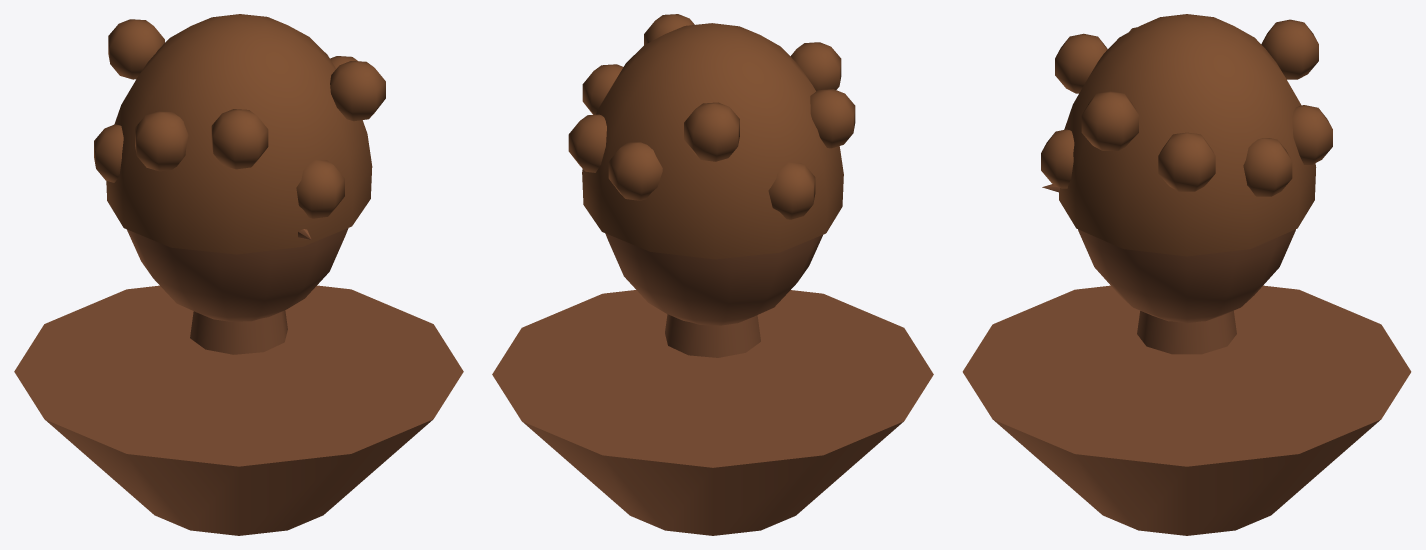
Rendered from raw_002.glb.
3 renders of one model, left to right at view 1: azimuth 30°, elevation 25°; view 2: azimuth 150°, elevation 25°; view 3: azimuth 270°, elevation 25°, orthographic.
Size of the model in its own units: 1.89 by 2.18 by 1.89.
